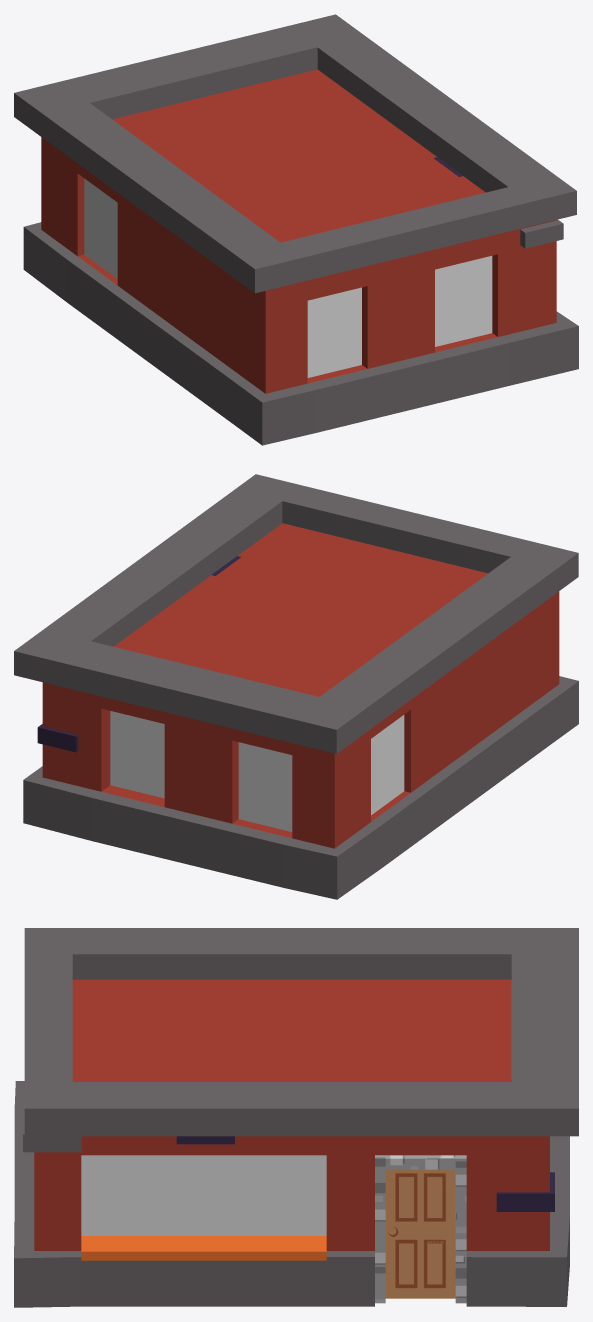
Rendered from House.fbx.
The picture shows the model from 3 angles, top to bottom: view 1: azimuth 30°, elevation 25°; view 2: azimuth 150°, elevation 25°; view 3: azimuth 270°, elevation 25°; orthographic projection. The views are drawn at different scales.
Visible parts, largest first — view 1: House; view 2: House; view 3: House.
Part boxes in pixels (left/top/right/bottom): House: left=14, top=14, right=578, bottom=445; House: left=14, top=474, right=578, bottom=899; House: left=14, top=928, right=578, bottom=1307.
Size of the model in its own units: 667 by 343 by 877.
